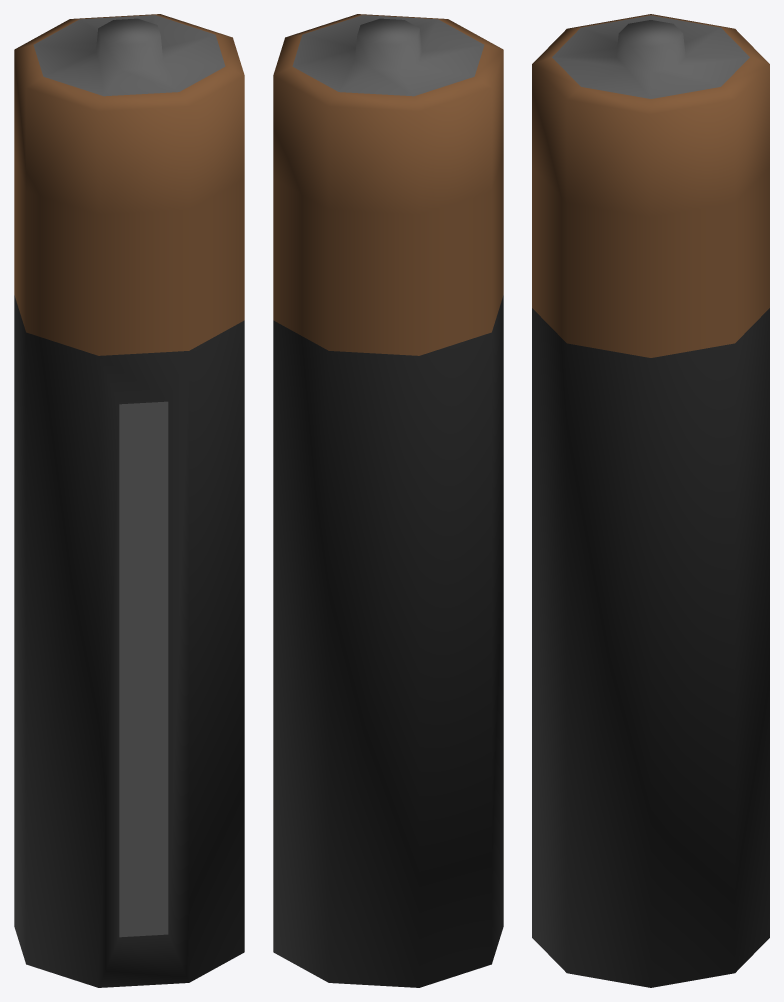
Rendered from Battery_AAA.fbx.
3 renders of one model, left to right at view 1: azimuth 30°, elevation 25°; view 2: azimuth 150°, elevation 25°; view 3: azimuth 270°, elevation 25°, orthographic.
Parts seen in each view (by area): view 1: Battery_AAA; view 2: Battery_AAA; view 3: Battery_AAA.
Part boxes in pixels (x1,y1,x2,y2): Battery_AAA: (14,14,244,987); Battery_AAA: (273,14,503,987); Battery_AAA: (532,14,769,987).
Size of the model in its own units: 7.45 by 31.26 by 7.45.
